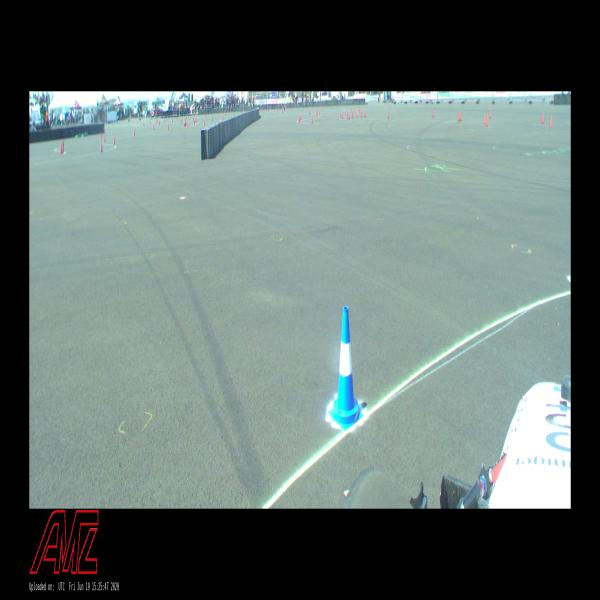blue_cone: (328, 307, 362, 430)
unknown_cone: (541, 112, 544, 123), (483, 113, 486, 124), (62, 139, 64, 152), (550, 115, 552, 127), (486, 115, 488, 126), (60, 143, 62, 154), (458, 111, 460, 121), (100, 141, 102, 151), (311, 115, 313, 124), (360, 110, 362, 118), (348, 112, 350, 120), (316, 109, 318, 117), (113, 136, 115, 144), (133, 129, 135, 136), (340, 111, 342, 118), (351, 111, 353, 118), (298, 115, 300, 122), (364, 110, 366, 116), (490, 109, 491, 118), (460, 111, 461, 120), (100, 132, 101, 140), (433, 110, 434, 118), (388, 111, 389, 119), (347, 111, 348, 119), (104, 134, 105, 142), (342, 112, 343, 119), (168, 124, 169, 130), (356, 111, 357, 117), (319, 110, 320, 116), (300, 114, 301, 120), (153, 125, 154, 131), (204, 121, 205, 126), (309, 109, 310, 114)
